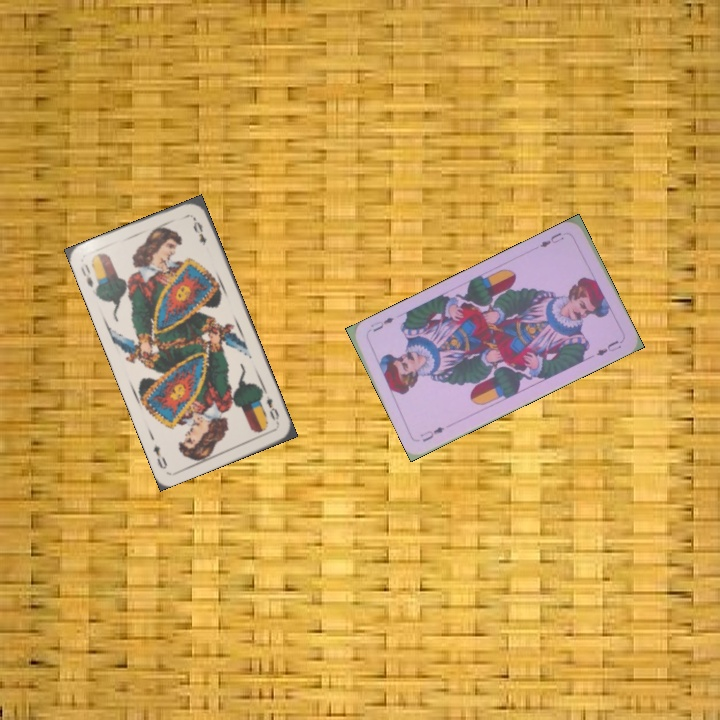EO: (262, 392, 282, 427), (76, 260, 96, 290)
EU: (536, 228, 567, 250), (416, 423, 447, 444)
